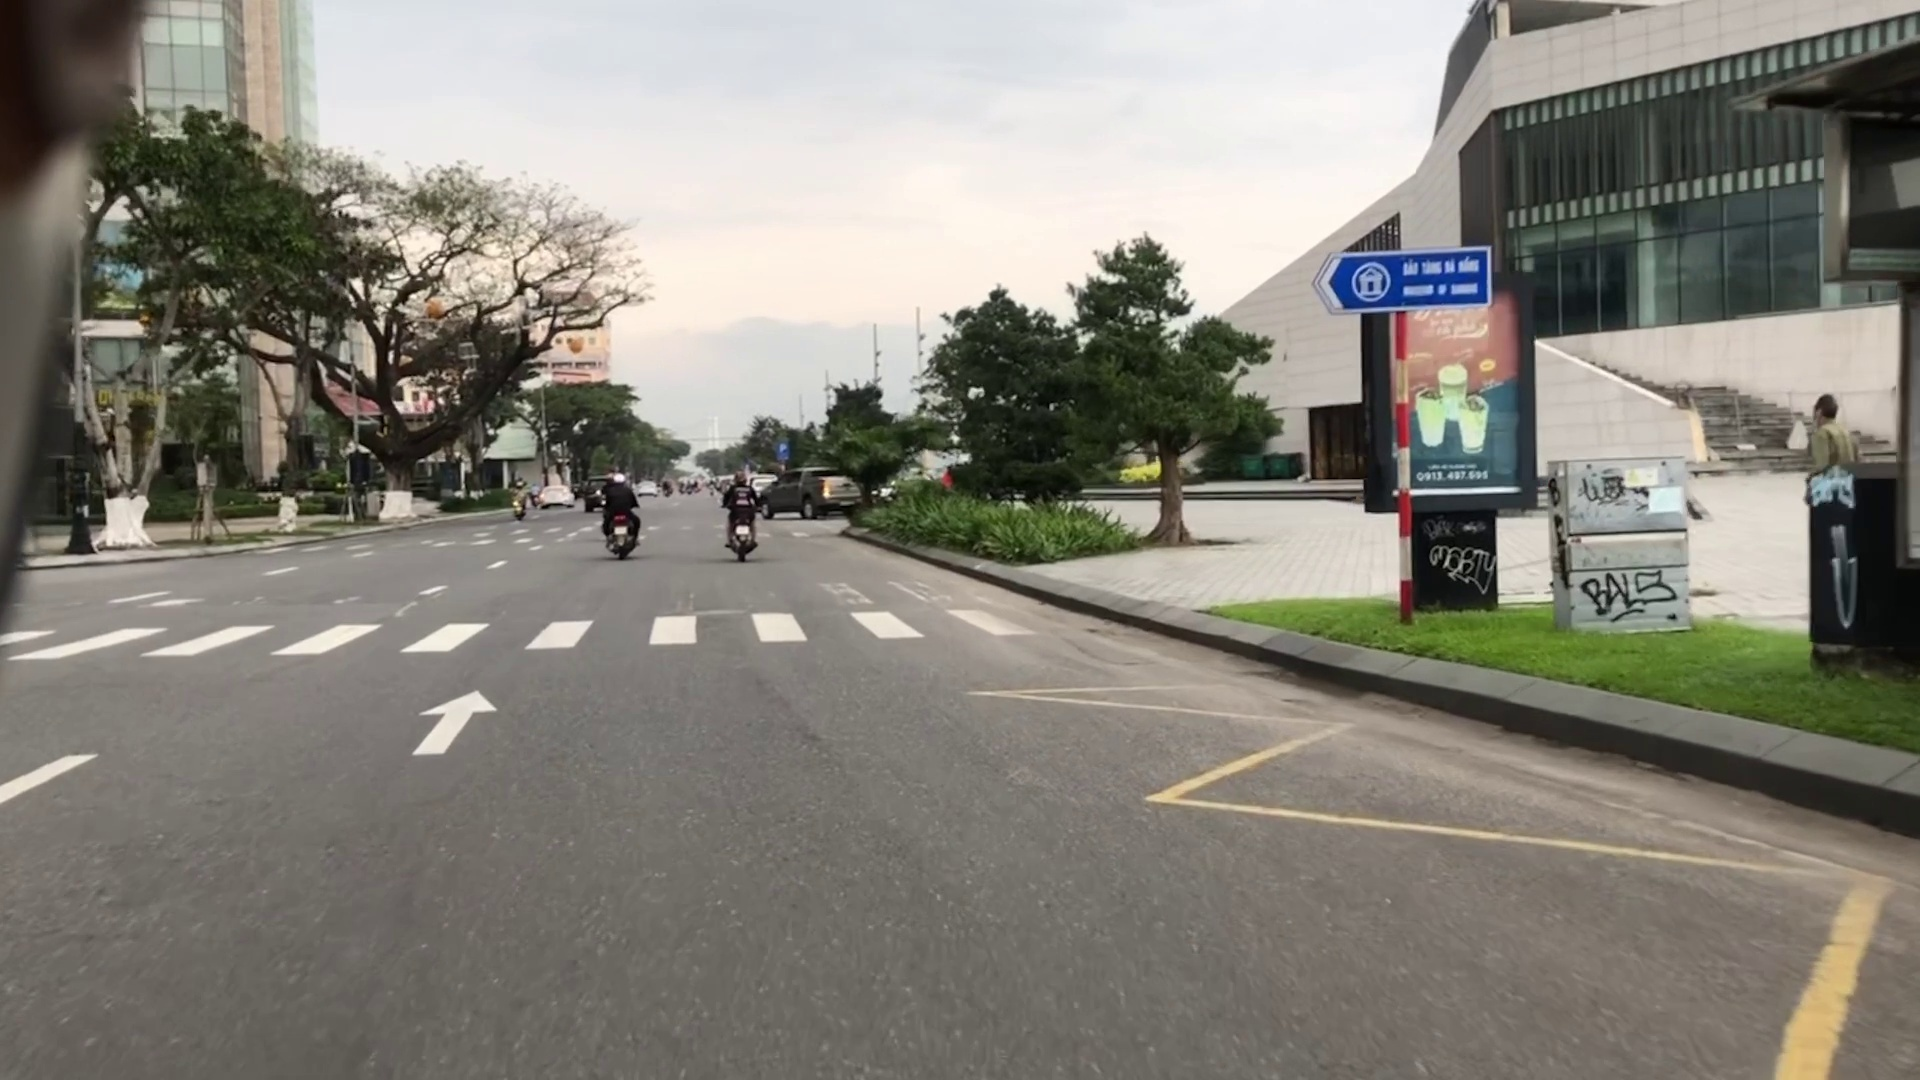Bien khac: (777, 436, 790, 459)
